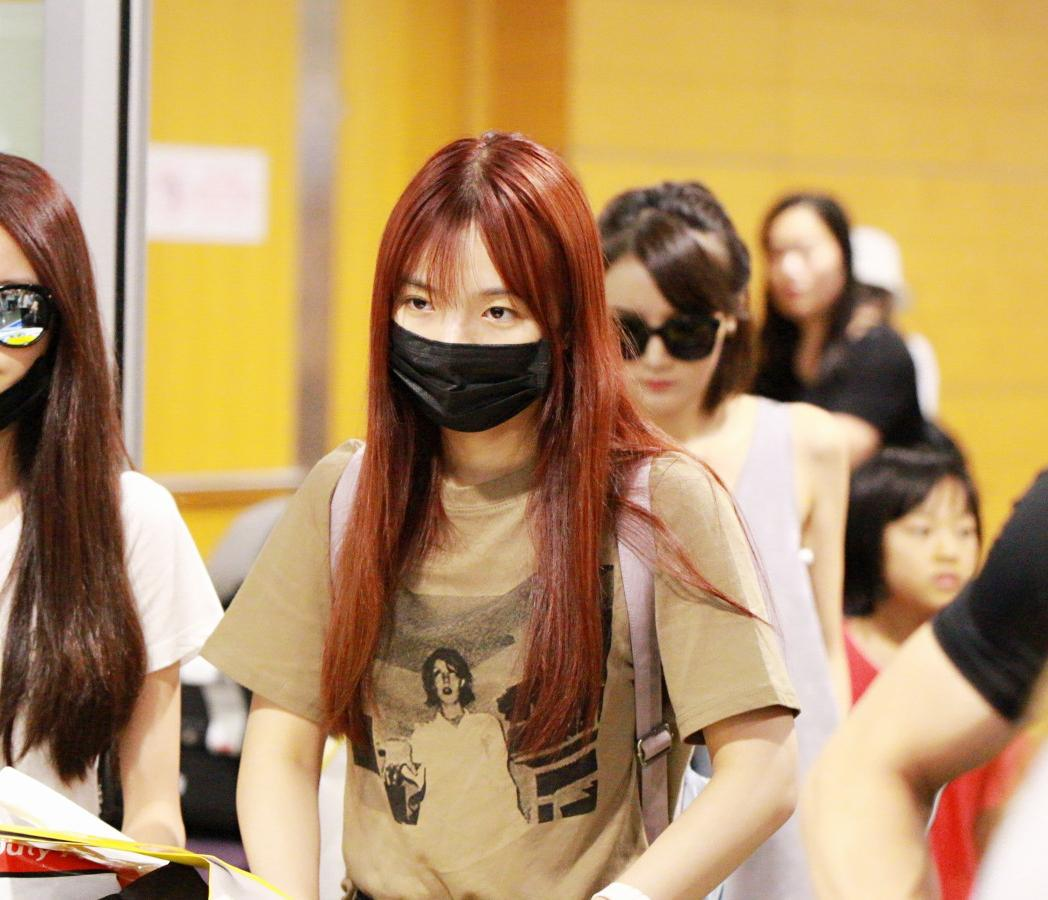NONE: (607, 283, 736, 411), (889, 509, 982, 607), (1, 263, 52, 399), (763, 241, 842, 313)
OK: (393, 261, 551, 419)
